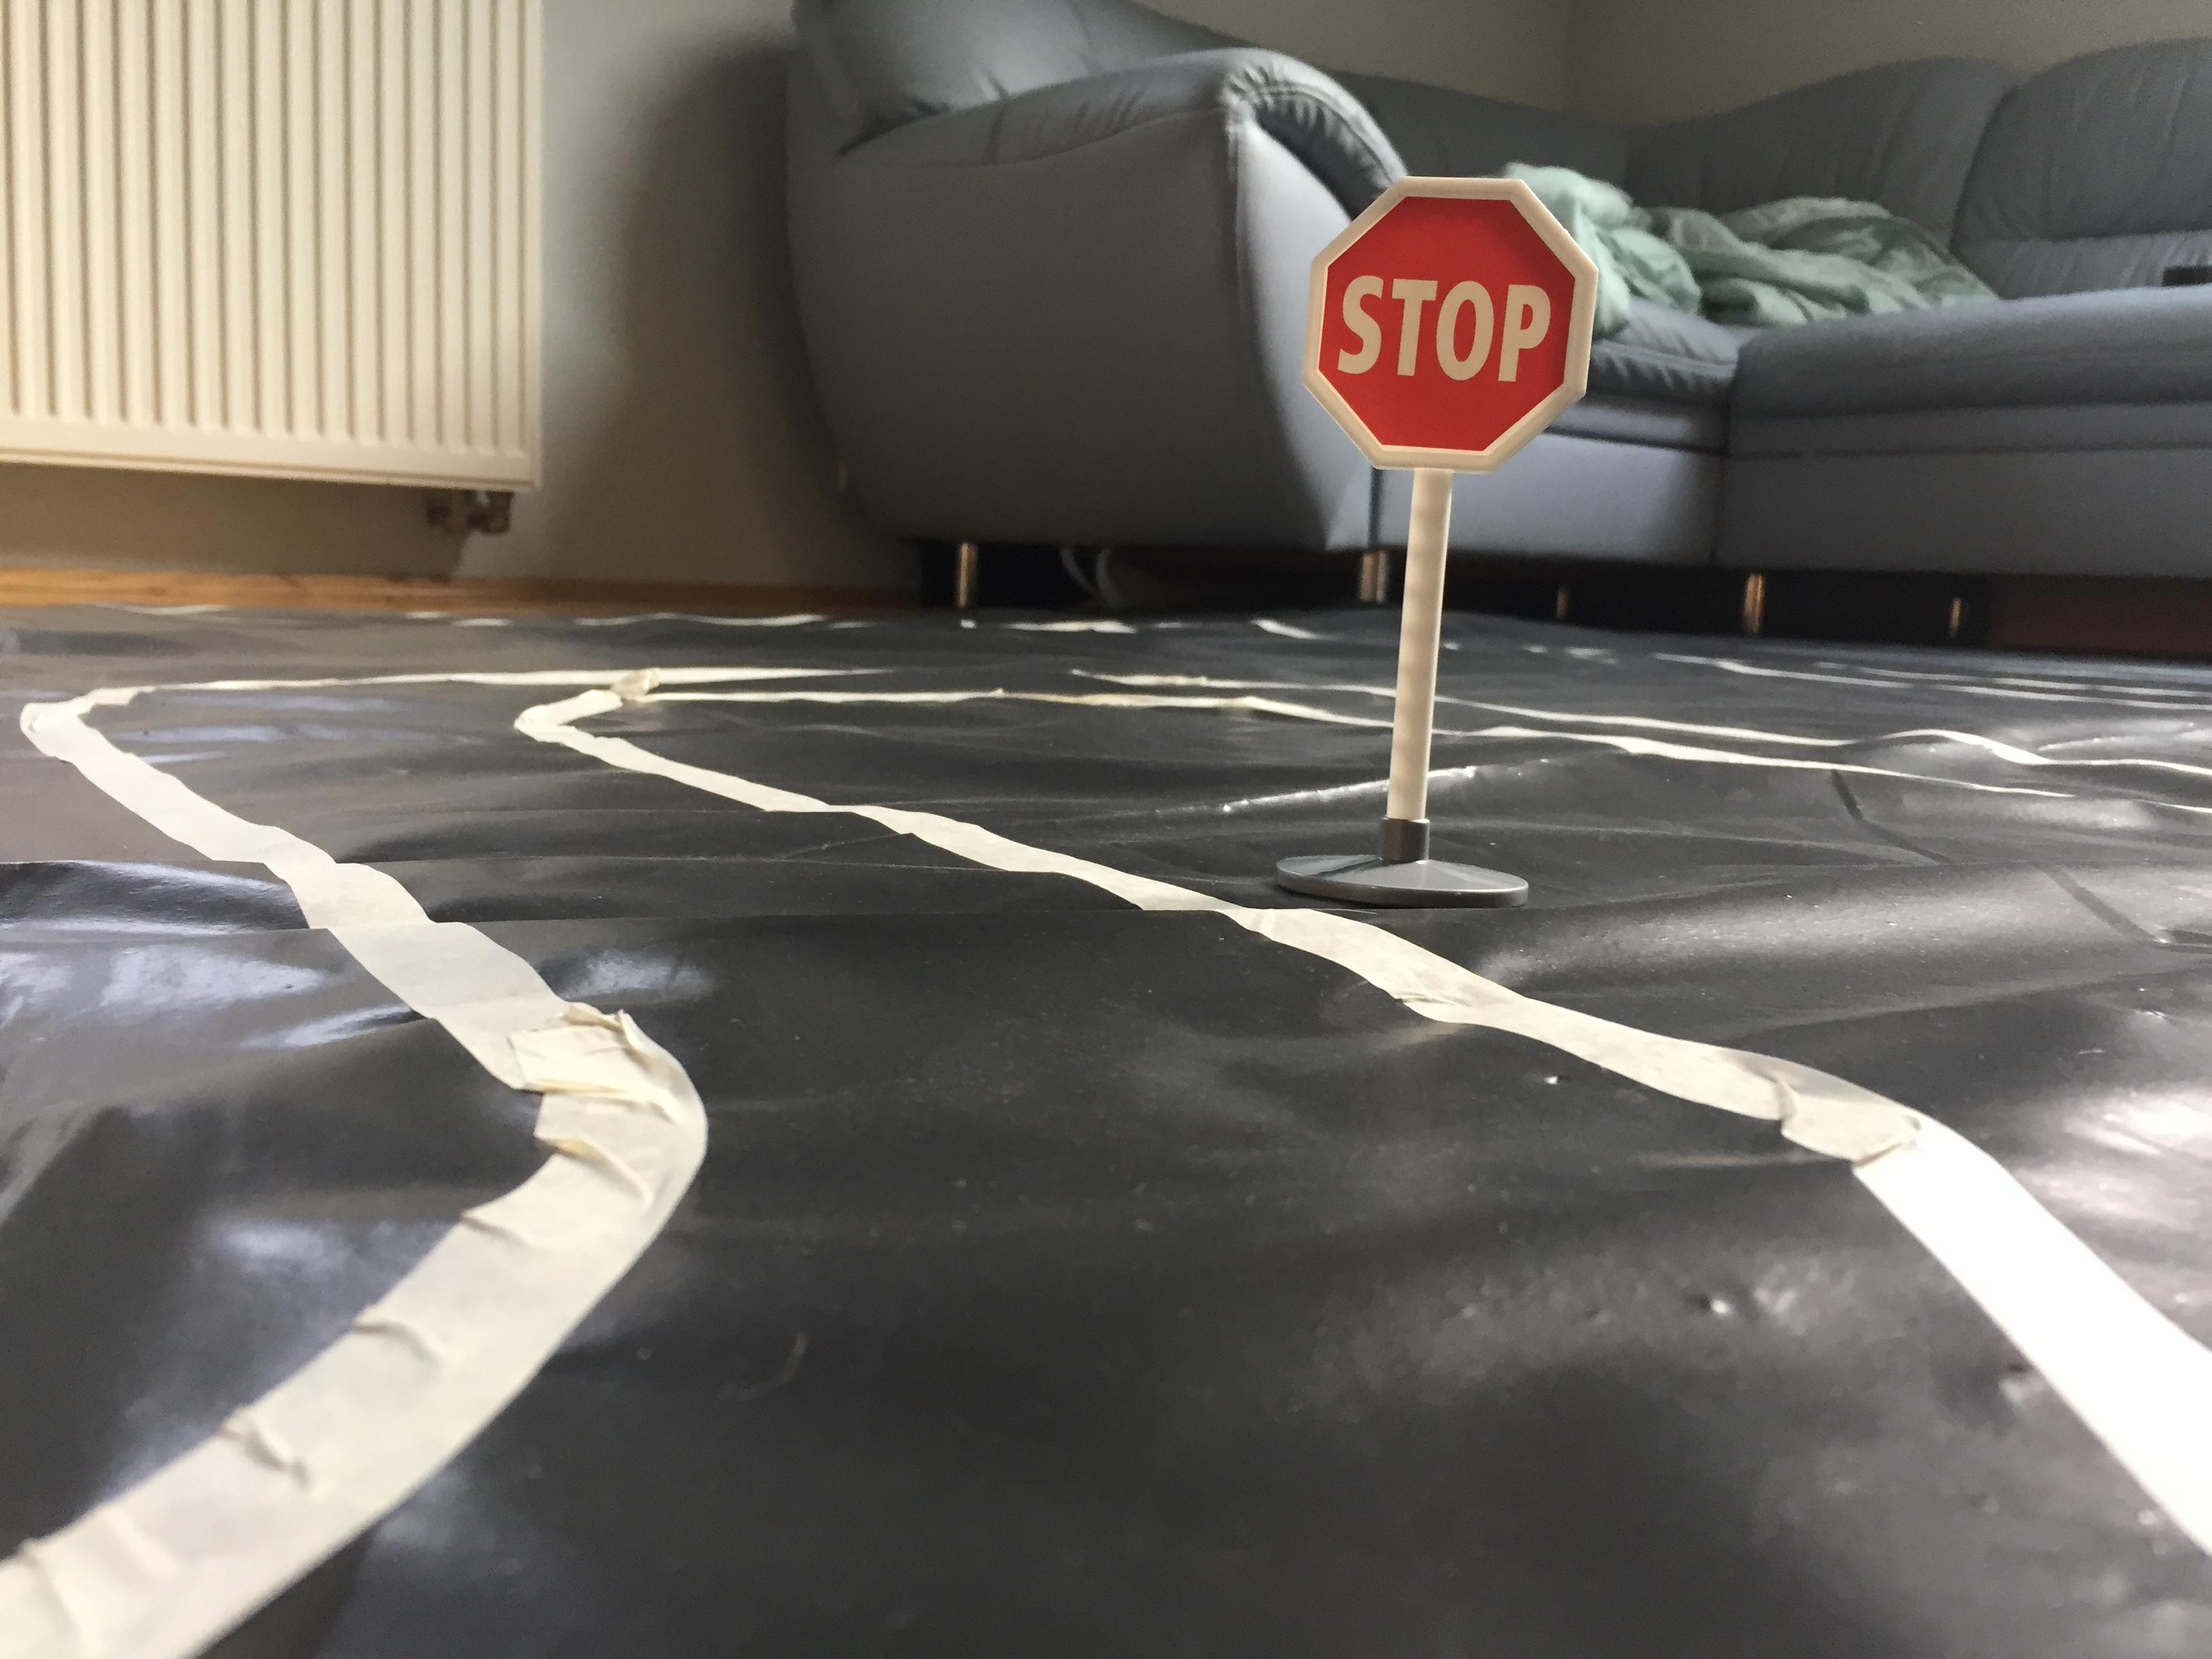stop: (1291, 164, 1616, 491)
